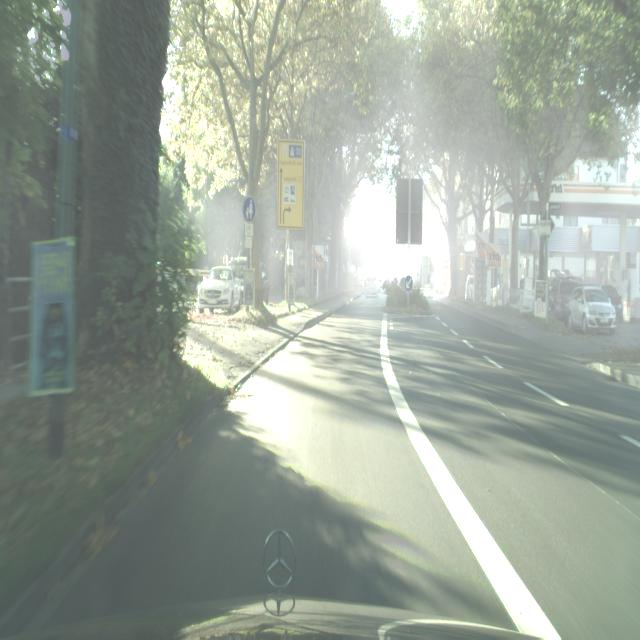bus: (567, 285, 616, 334), (197, 265, 244, 314), (553, 278, 583, 322), (601, 283, 626, 323), (364, 274, 379, 298)
